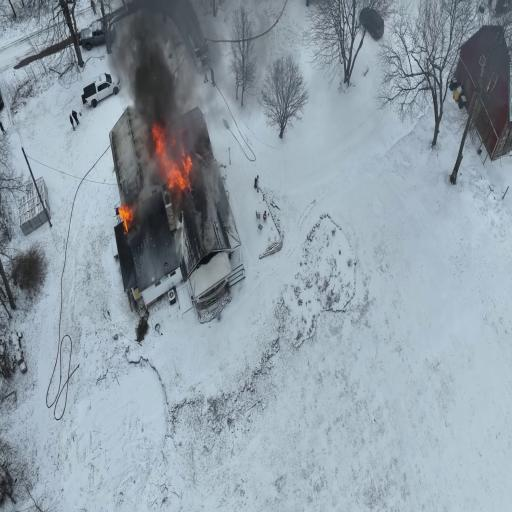fire: (157, 128, 193, 193), (118, 202, 137, 230)
